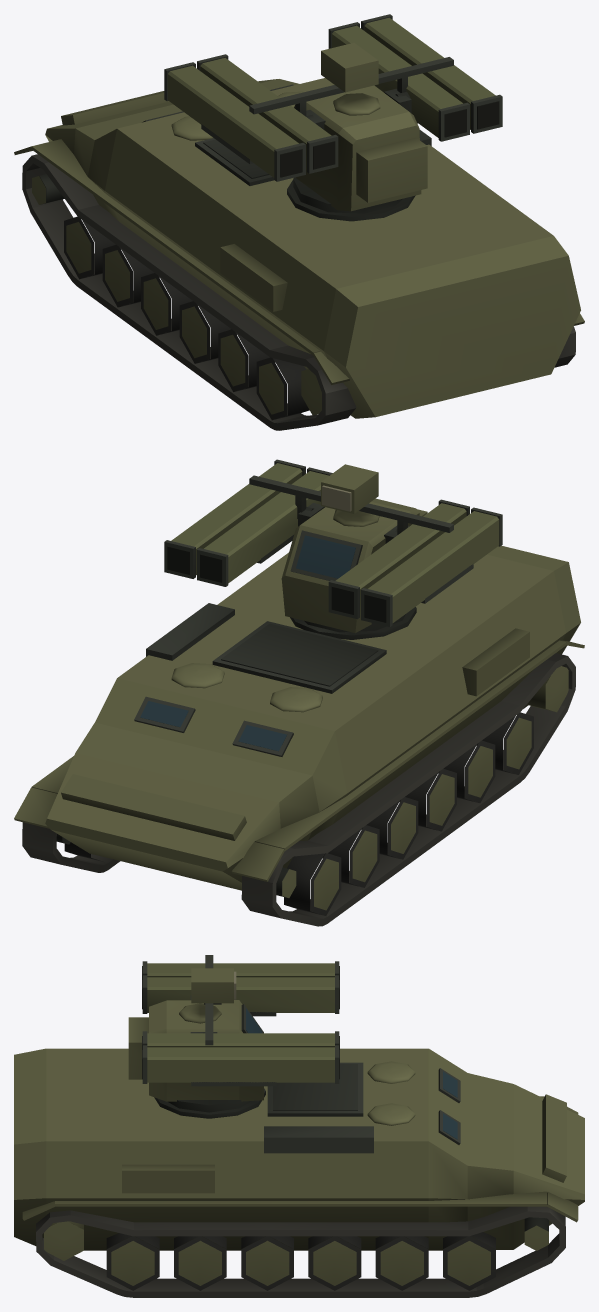
Rendered from strela10_lod2.glb.
3 views of the same model, one above another, from view 1: azimuth 30°, elevation 25°; view 2: azimuth 150°, elevation 25°; view 3: azimuth 270°, elevation 25° (orthographic). The views are drawn at different scales.
Parts seen in each view (by area): view 1: Hull_Strela10_Paint, GunPitch_Strela10_PodPaint, LeftTrack_Strela10_TrackSteel, TurretYaw_Strela10_Paint, LeftTrack_Motion_Strela10_Paint, LeftTrack_Motion_Strela10_Rubber, GunPitch_Strela10_DarkSteel, Hull_Strela10_DarkSteel, GunPitch_Strela10_Paint, GunPitch_Strela10_Cavity, TurretYaw_Strela10_DarkSteel; view 2: Hull_Strela10_Paint, GunPitch_Strela10_PodPaint, LeftTrack_Strela10_TrackSteel, Hull_Strela10_DarkSteel, LeftTrack_Motion_Strela10_Paint, LeftTrack_Motion_Strela10_Rubber, TurretYaw_Strela10_Paint, GunPitch_Strela10_DarkSteel, GunPitch_Strela10_Cavity, RightTrack_Strela10_TrackSteel, TurretYaw_Strela10_Optics, GunPitch_Strela10_Paint (+3 smaller); view 3: Hull_Strela10_Paint, RightTrack_Strela10_TrackSteel, GunPitch_Strela10_PodPaint, RightTrack_Motion_Strela10_Paint, Hull_Strela10_DarkSteel, RightTrack_Motion_Strela10_Rubber, TurretYaw_Strela10_Paint, GunPitch_Strela10_DarkSteel, GunPitch_Strela10_Paint, TurretYaw_Strela10_DarkSteel, Hull_Strela10_Optics.
Boxes of the visible parts, x1,y1,x2,y2 form: Hull_Strela10_Paint: (14,78,584,418); GunPitch_Strela10_PodPaint: (167,17,495,177); LeftTrack_Strela10_TrackSteel: (22,154,356,430); TurretYaw_Strela10_Paint: (294,85,427,211); LeftTrack_Motion_Strela10_Paint: (32,176,321,415); LeftTrack_Motion_Strela10_Rubber: (64,216,309,420); GunPitch_Strela10_DarkSteel: (164,14,502,181); Hull_Strela10_DarkSteel: (142,84,431,221); GunPitch_Strela10_Paint: (321,43,378,92); GunPitch_Strela10_Cavity: (280,101,499,177); TurretYaw_Strela10_DarkSteel: (293,88,411,213); Hull_Strela10_Paint: (14,545,584,890); GunPitch_Strela10_PodPaint: (171,463,499,622); LeftTrack_Strela10_TrackSteel: (241,653,575,926); Hull_Strela10_DarkSteel: (134,603,416,756); LeftTrack_Motion_Strela10_Paint: (282,666,568,910); LeftTrack_Motion_Strela10_Rubber: (284,712,533,915); TurretYaw_Strela10_Paint: (281,498,427,633); GunPitch_Strela10_DarkSteel: (164,459,502,626); GunPitch_Strela10_Cavity: (167,546,386,622); RightTrack_Strela10_TrackSteel: (22,822,120,872); TurretYaw_Strela10_Optics: (296,535,355,578); GunPitch_Strela10_Paint: (321,464,378,513); Hull_Strela10_Paint: (14,1048,584,1250); RightTrack_Strela10_TrackSteel: (36,1206,565,1297); GunPitch_Strela10_PodPaint: (147,963,334,1082); RightTrack_Motion_Strela10_Paint: (44,1221,548,1285); Hull_Strela10_DarkSteel: (154,1062,460,1153); RightTrack_Motion_Strela10_Rubber: (106,1232,495,1290); TurretYaw_Strela10_Paint: (128,1000,263,1101); GunPitch_Strela10_DarkSteel: (142,955,339,1086); GunPitch_Strela10_Paint: (191,968,233,1003); TurretYaw_Strela10_DarkSteel: (168,995,263,1112); Hull_Strela10_Optics: (443,1071,457,1139).
Size of the model in its own units: 2.92 by 3.35 by 6.45.
